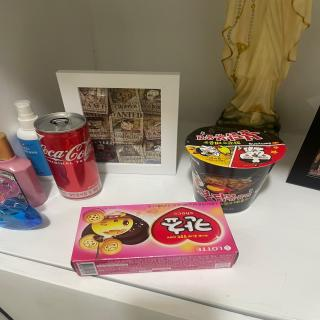cocacola: (32, 111, 104, 200)
